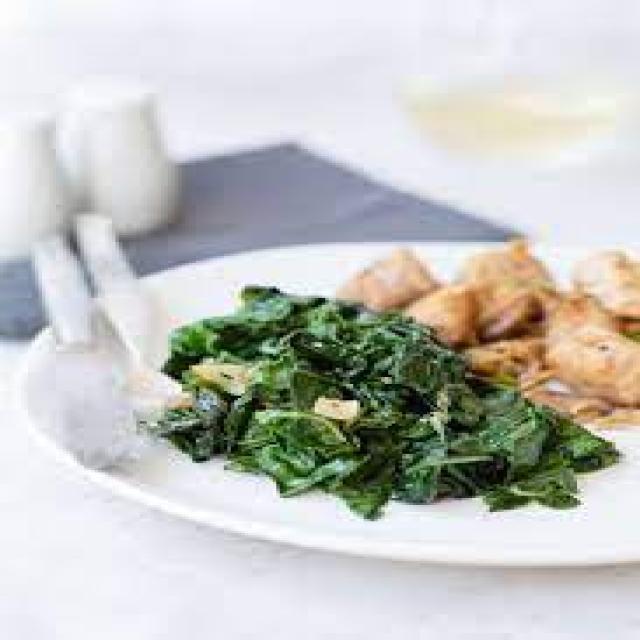Spinach: (167, 286, 621, 522)
